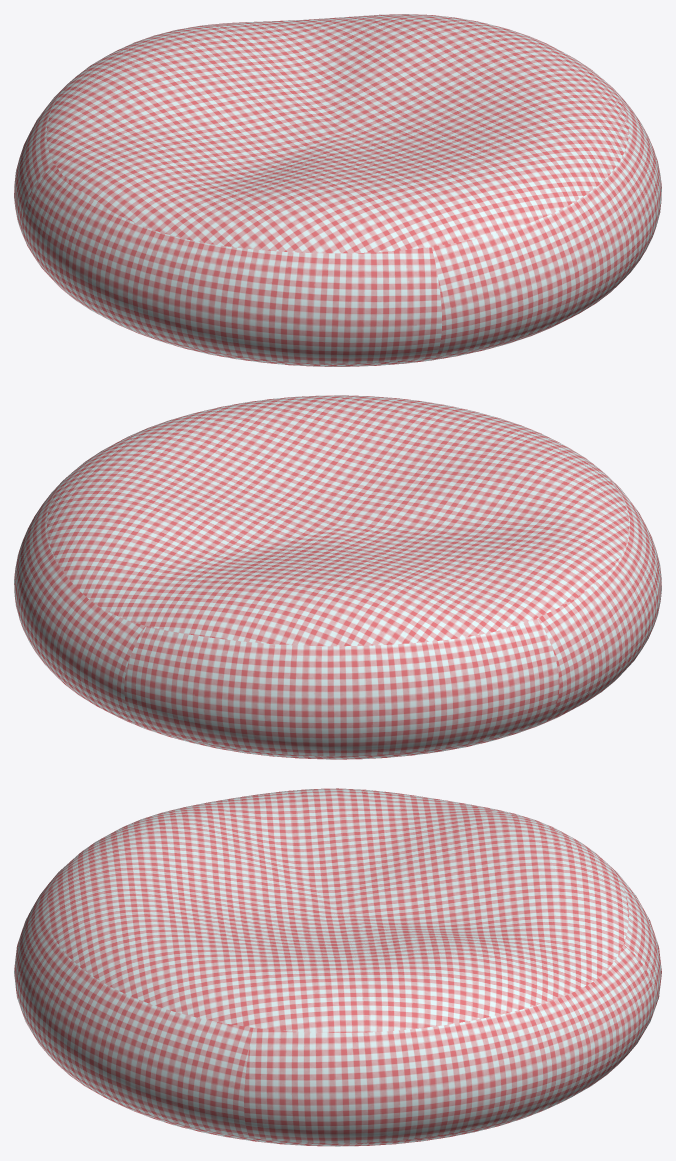
Rendered from Cushion.fbx.
3 renders of one model, top to bottom at view 1: azimuth 30°, elevation 25°; view 2: azimuth 150°, elevation 25°; view 3: azimuth 270°, elevation 25°, orthographic.
Visible parts, largest first — view 1: Cushion; view 2: Cushion; view 3: Cushion.
Part boxes in pixels (bbox=[...]): Cushion: bbox=[14, 14, 661, 366]; Cushion: bbox=[14, 395, 661, 759]; Cushion: bbox=[14, 788, 661, 1146].
Bounding box in the file's own units: 0.4024 × 0.1039 × 0.4024.
